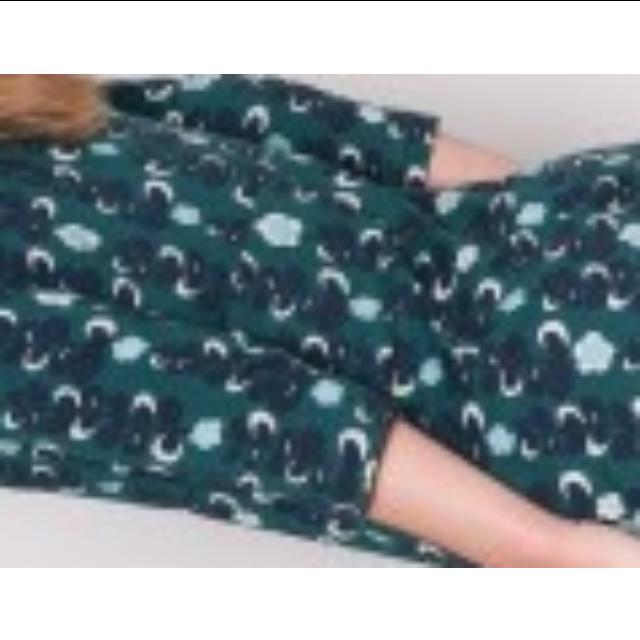polyester: (0, 94, 640, 550)
